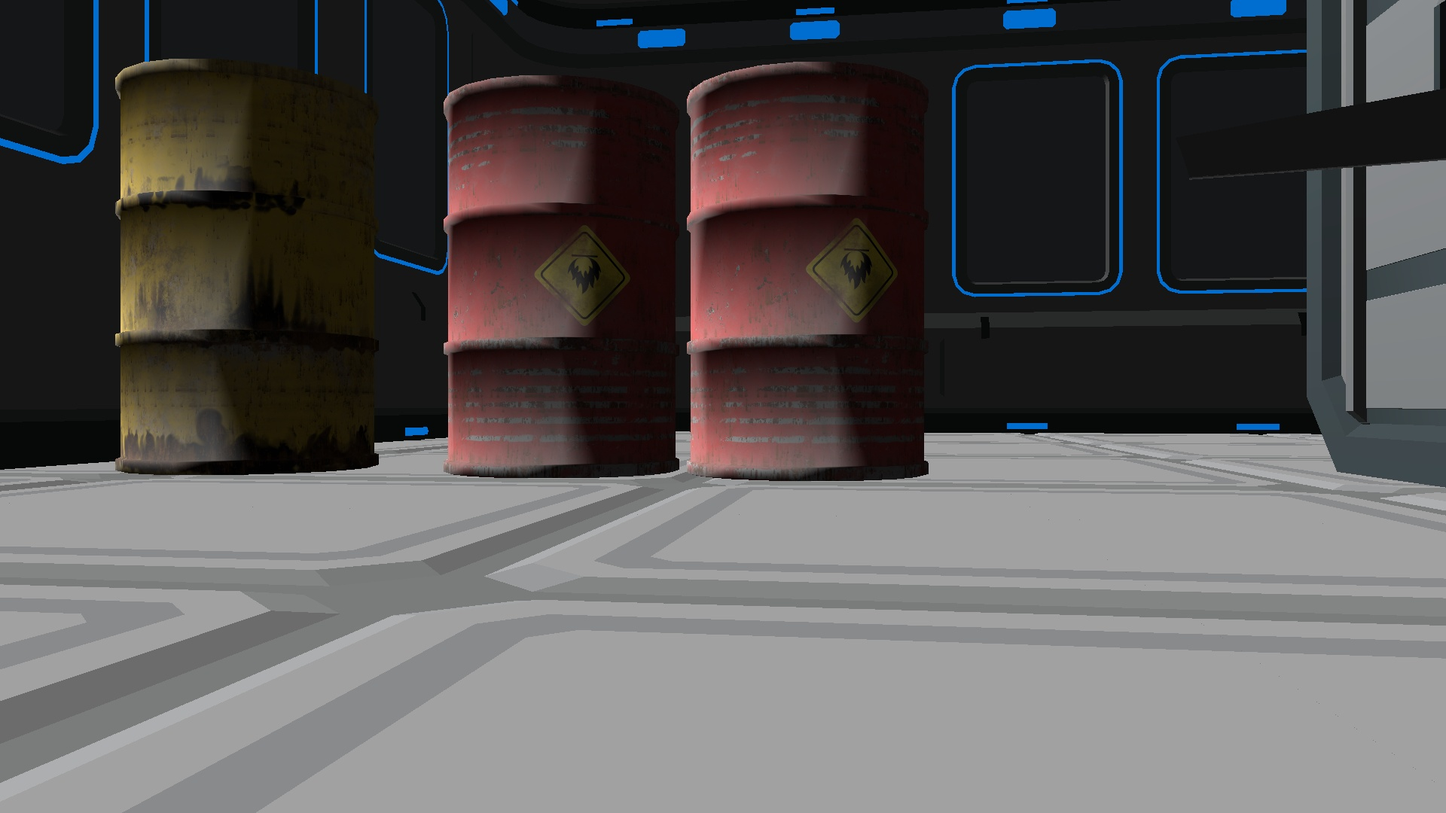toxic barrel: (115, 59, 380, 476), (686, 61, 929, 482), (442, 76, 679, 479)
